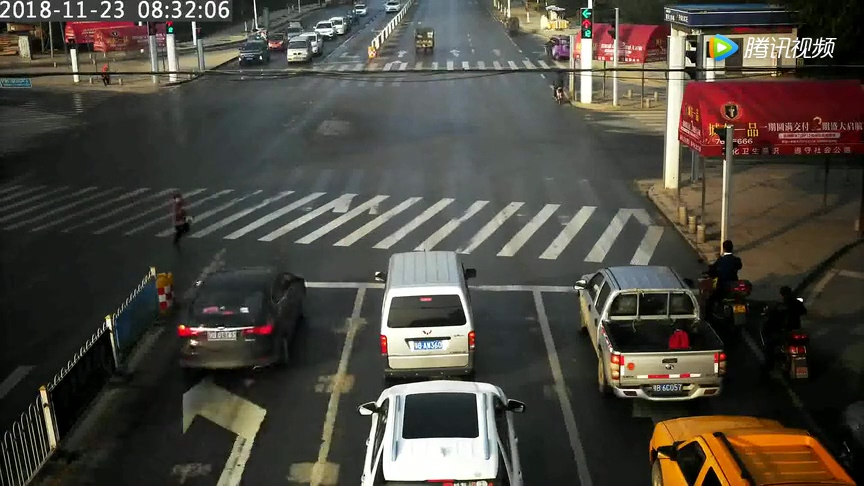car: (565, 265, 740, 410), (157, 263, 319, 387), (369, 246, 484, 384), (232, 38, 272, 72), (278, 37, 320, 69), (409, 25, 449, 56), (385, 1, 411, 13)
person: (704, 232, 754, 336), (153, 190, 200, 258), (551, 66, 566, 110), (94, 60, 116, 88)
